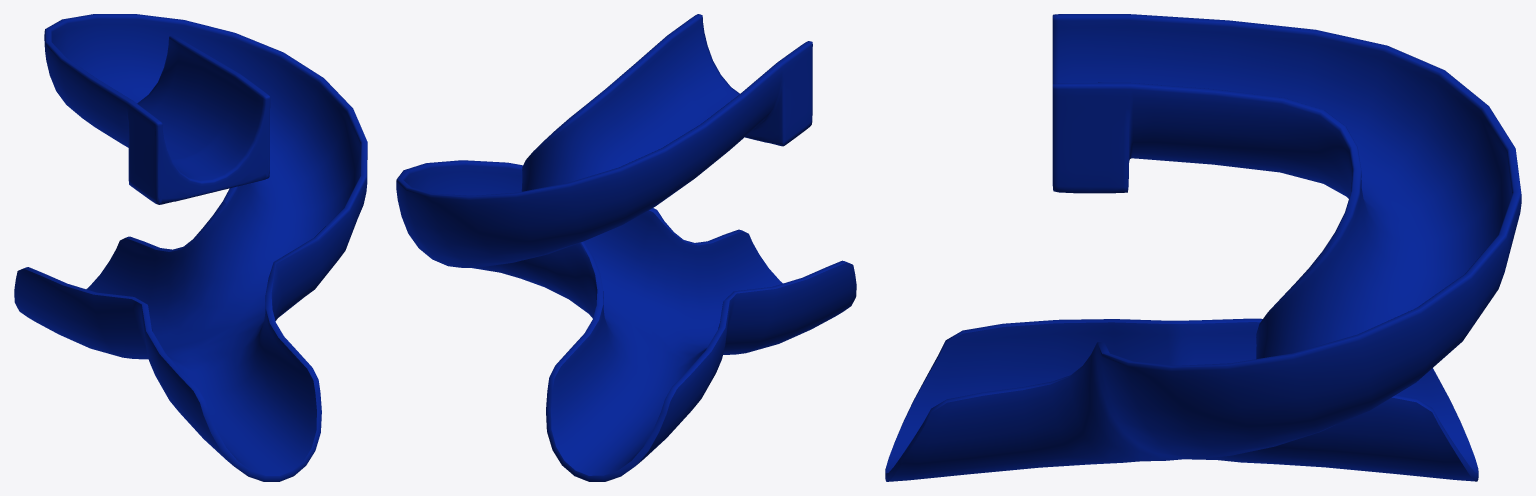
Rendered from Slider 02.FBX.
3 views of the same model, side by side, from view 1: azimuth 30°, elevation 25°; view 2: azimuth 150°, elevation 25°; view 3: azimuth 270°, elevation 25° (orthographic). The views are drawn at different scales.
Visible parts, largest first — view 1: Slider 02; view 2: Slider 02; view 3: Slider 02.
Part boxes in pixels (x1,y1,x2,y2): Slider 02: (14,14,367,481); Slider 02: (396,14,856,481); Slider 02: (885,14,1521,481).
Size of the model in its own units: 133 by 144 by 195.
